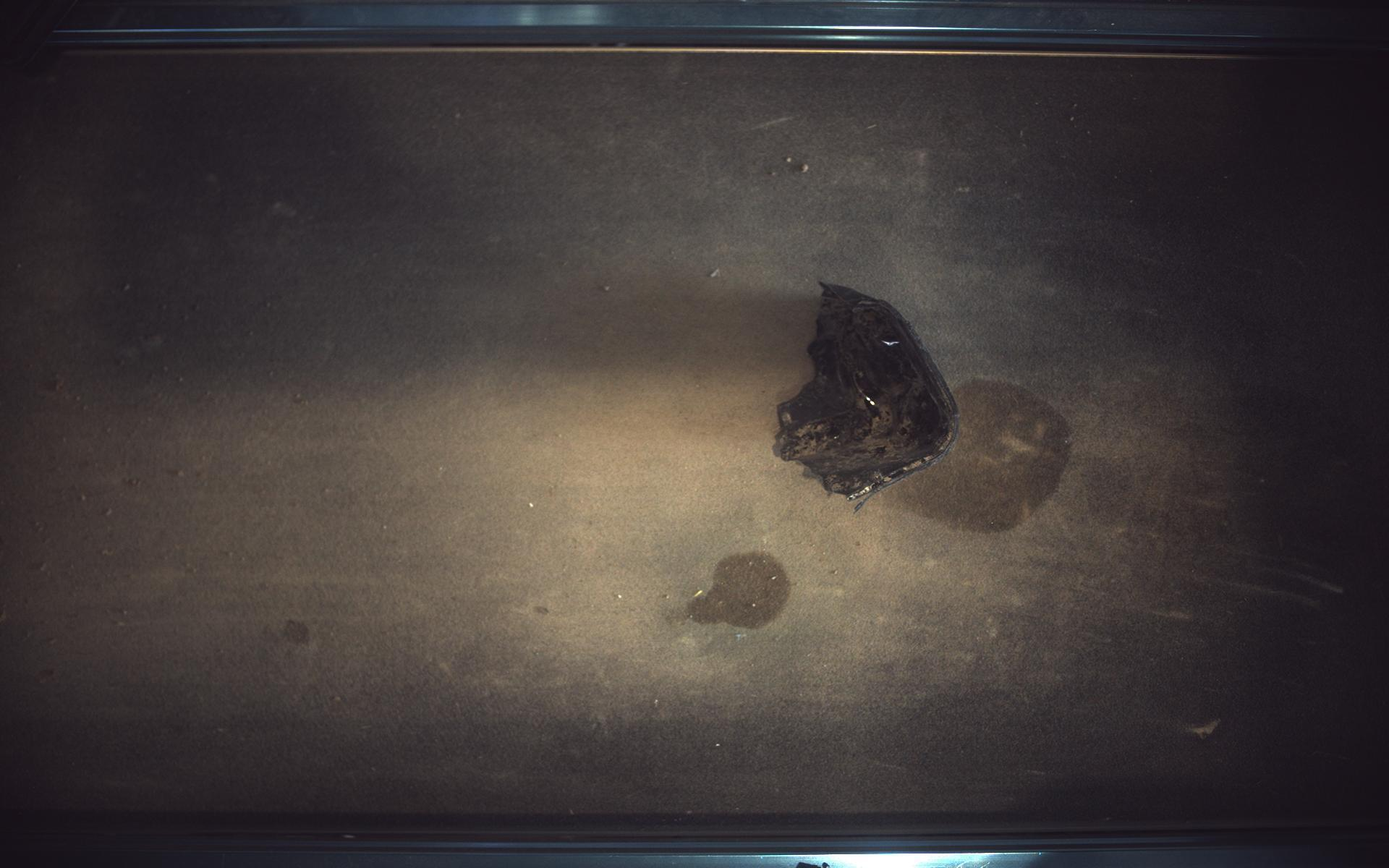general_w: (775, 281, 961, 509)
